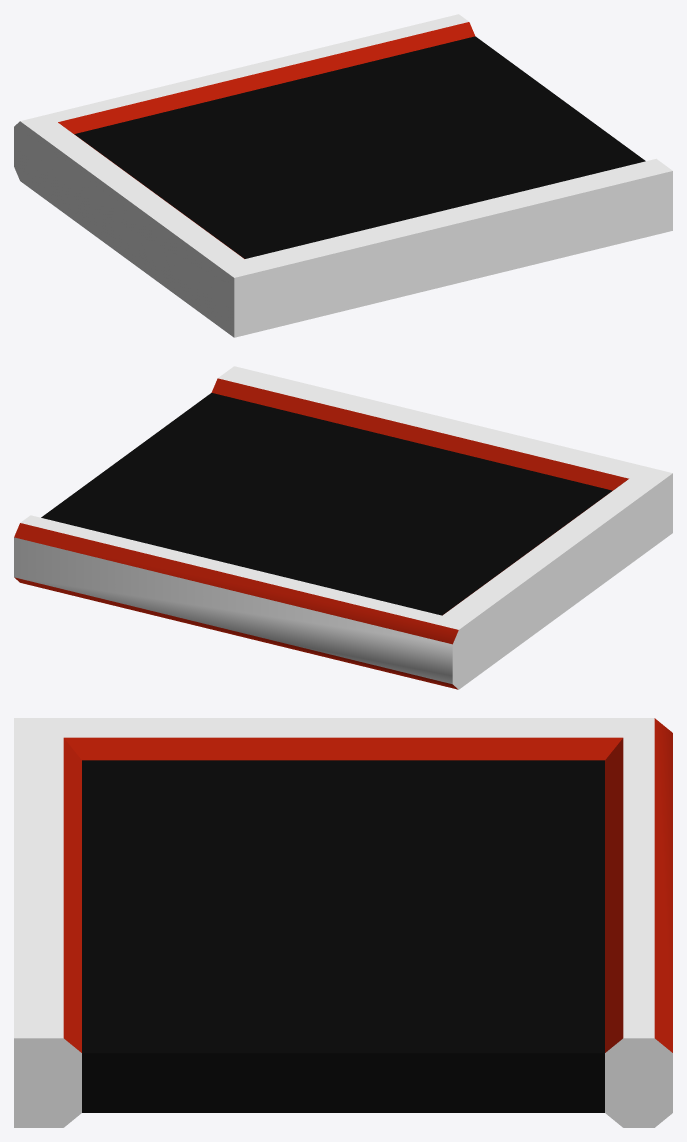
The model's file is S_assete_basement_platform_5.fbx.
3 views of the same model, one above another, from view 1: azimuth 30°, elevation 25°; view 2: azimuth 150°, elevation 25°; view 3: azimuth 270°, elevation 25° (orthographic). The views are drawn at different scales.
Visible parts, largest first — view 1: platforme_5; view 2: platforme_5; view 3: platforme_5.
Boxes of the visible parts, <box> form: platforme_5: <box>14,14,672,337</box>; platforme_5: <box>14,366,672,689</box>; platforme_5: <box>14,718,672,1127</box>.
Bounding box in the file's own units: 230 × 30 × 200.
